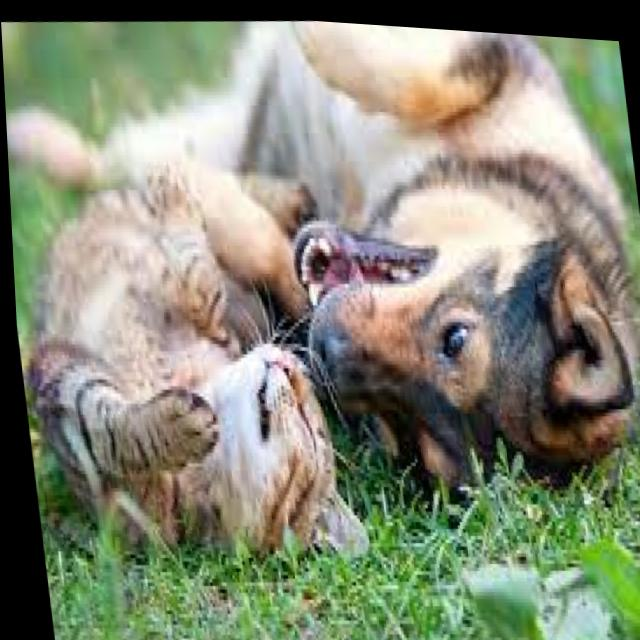Cat: (9, 227, 338, 607)
Dog: (264, 14, 640, 496)
